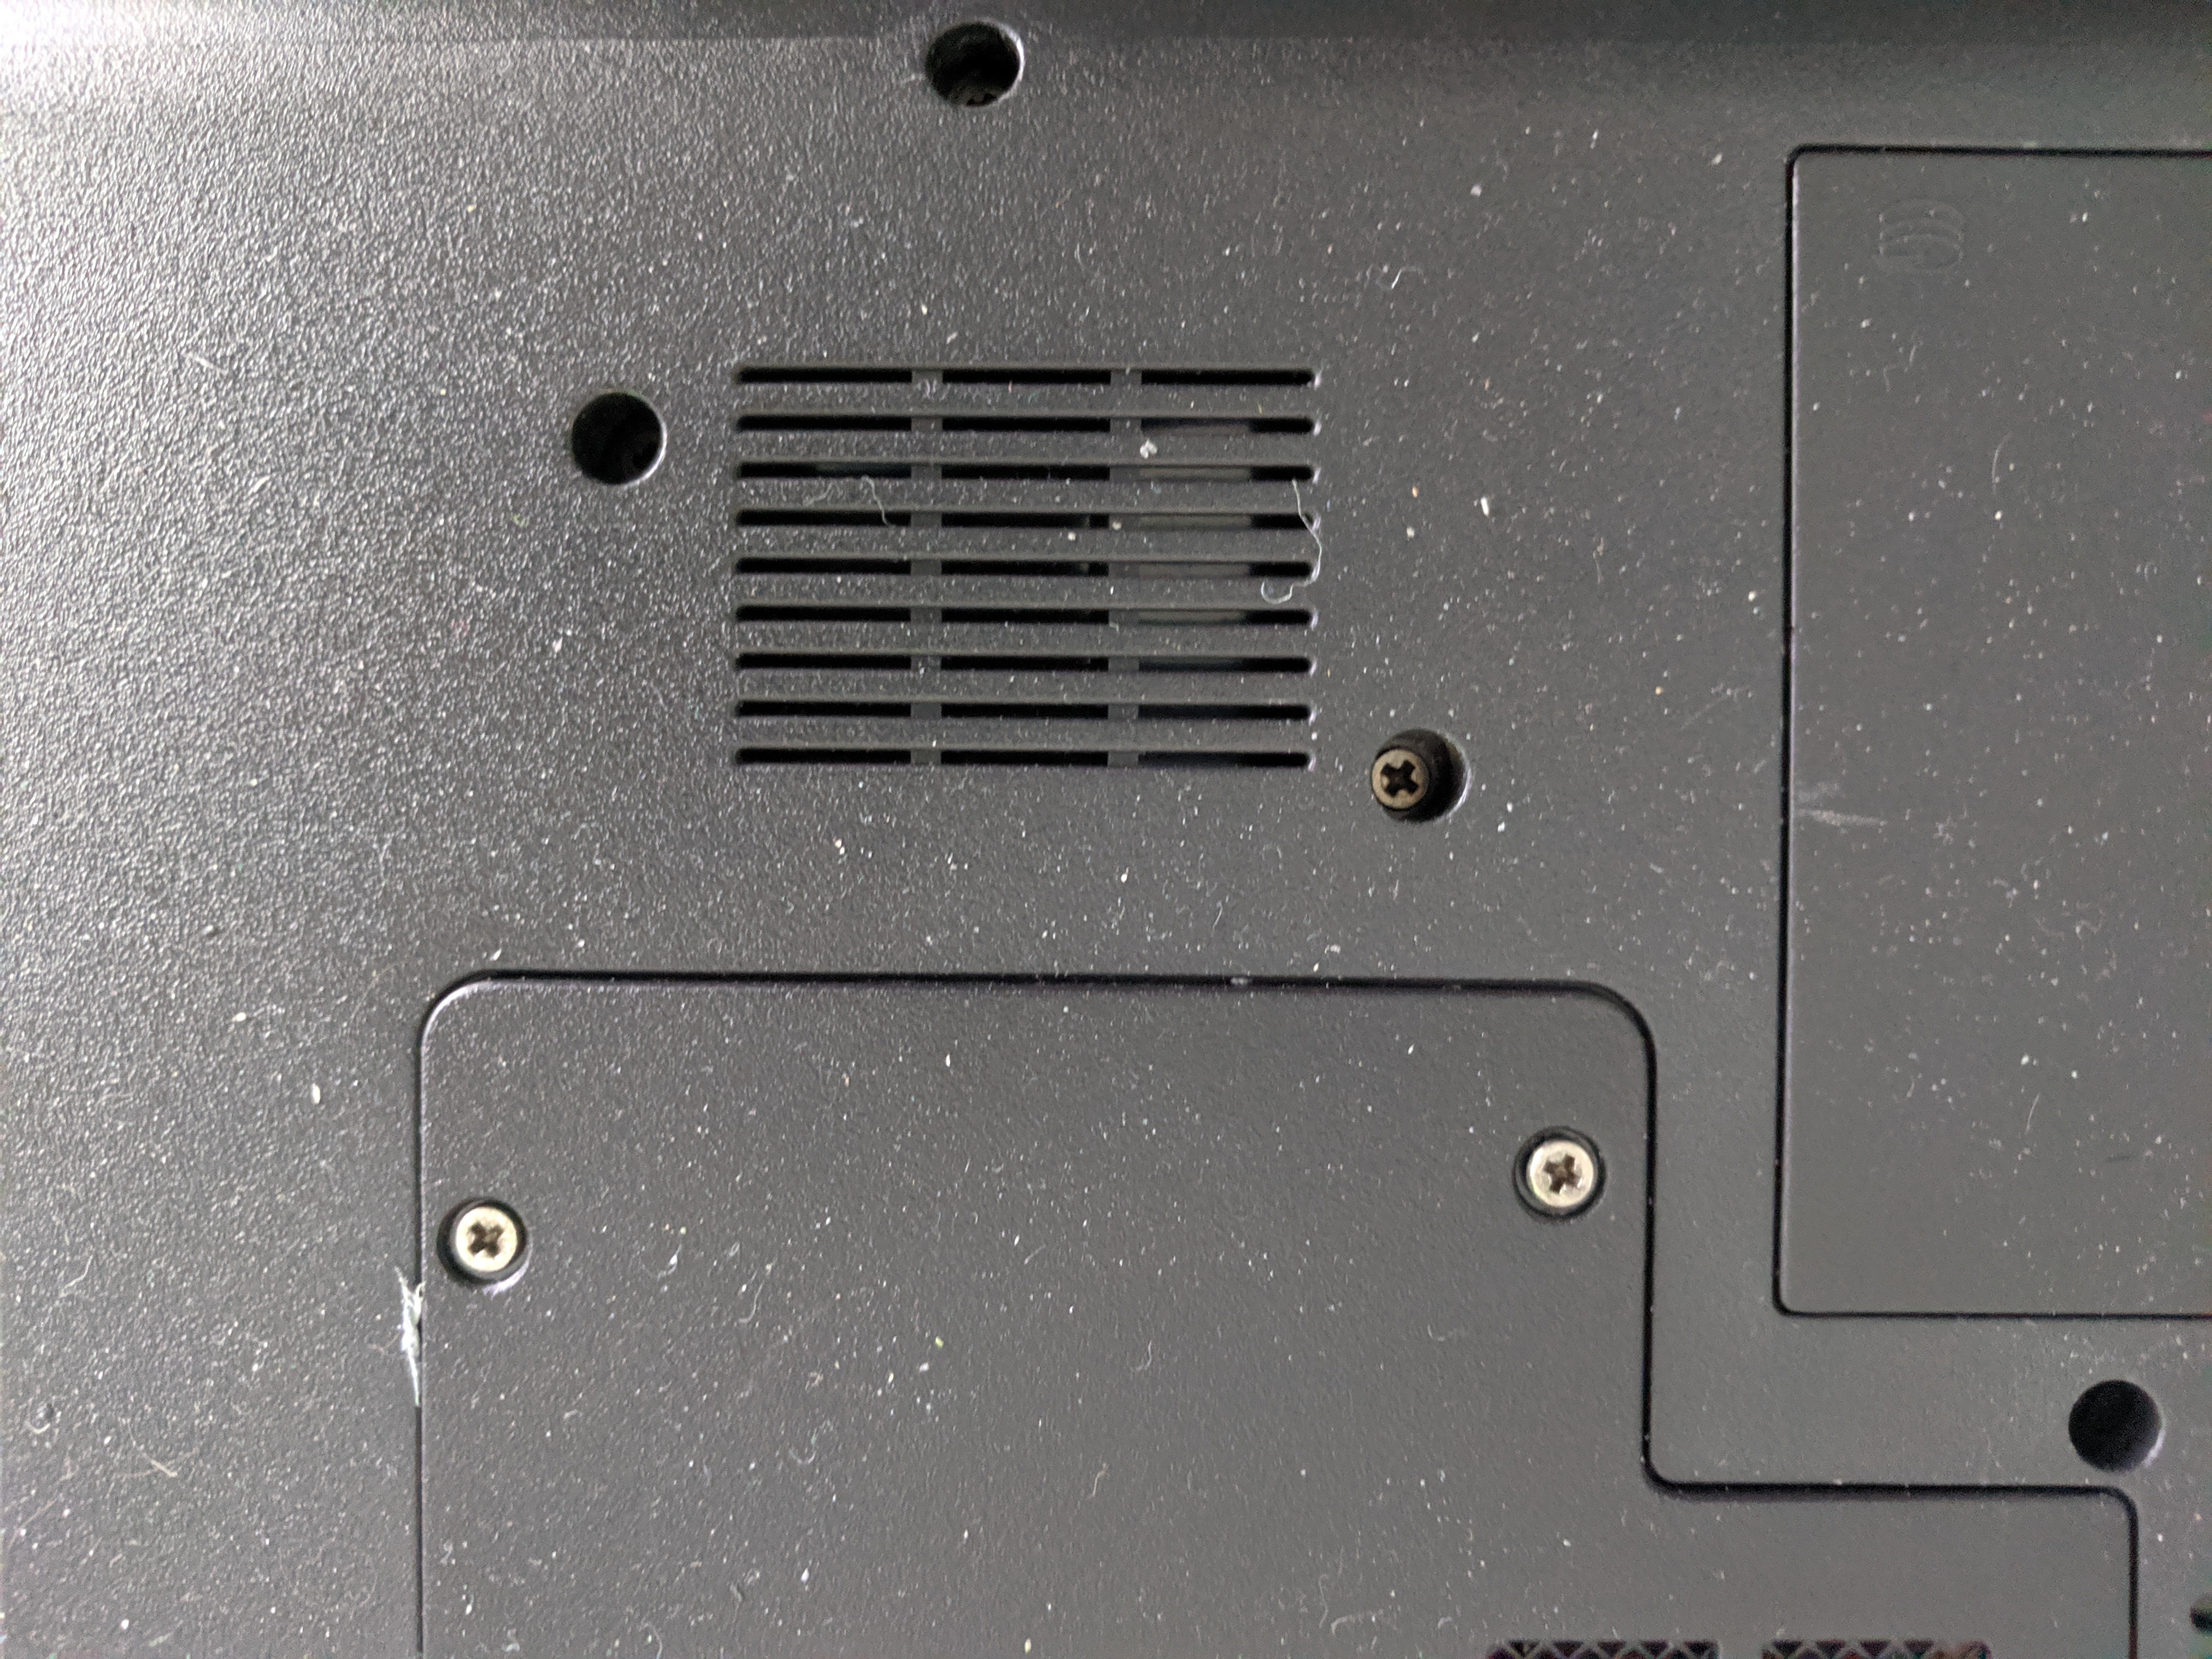cross_recessed_screw: (1514, 1119, 1604, 1225), (437, 1194, 526, 1288), (1366, 735, 1446, 823)
